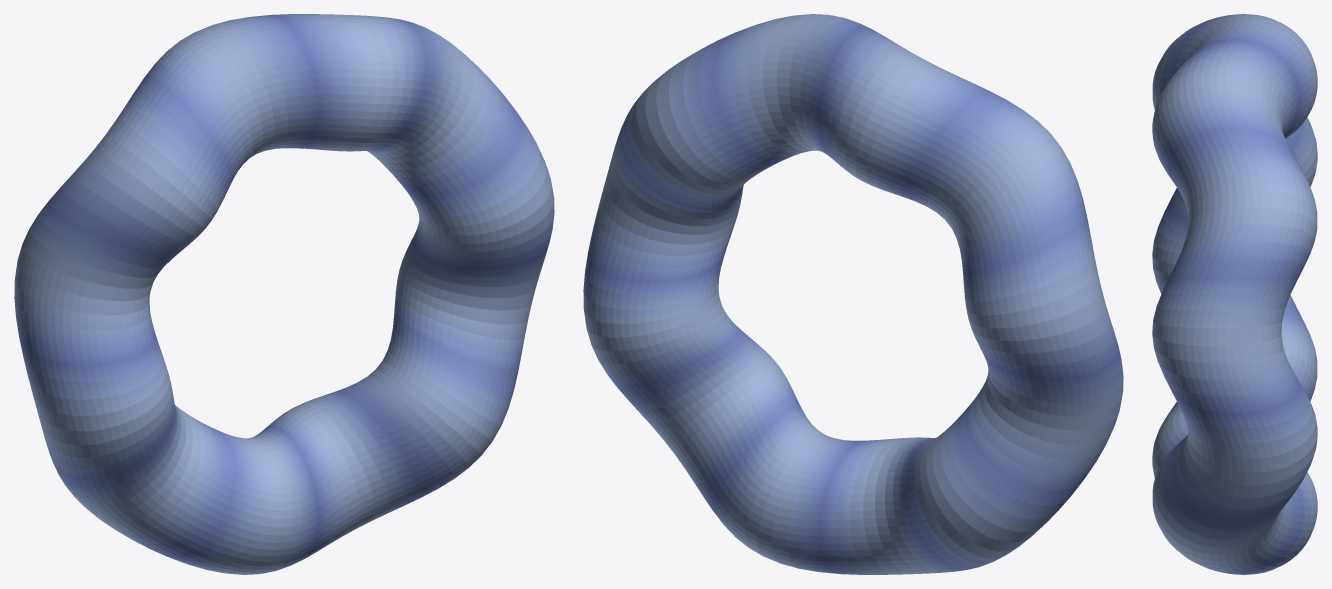
The model's file is step_4.glb.
3 renders of one model, left to right at view 1: azimuth 30°, elevation 25°; view 2: azimuth 150°, elevation 25°; view 3: azimuth 270°, elevation 25°, orthographic. The views are drawn at different scales.
Parts seen in each view (by area): view 1: world; view 2: world; view 3: world.
Boxes of the visible parts, x1,y1,x2,y2 form: world: (14, 14, 554, 574); world: (583, 14, 1123, 574); world: (1152, 14, 1317, 574).
Size of the model in its own units: 26 by 26 by 7.67.
